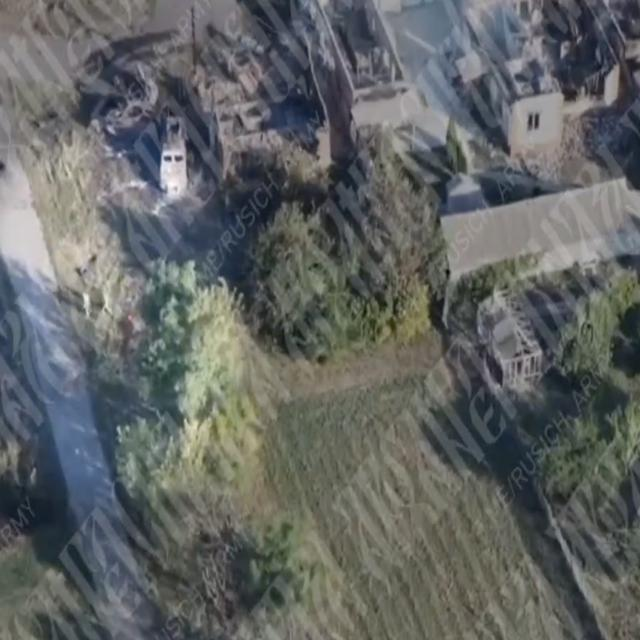vehicle: (154, 114, 192, 200)
